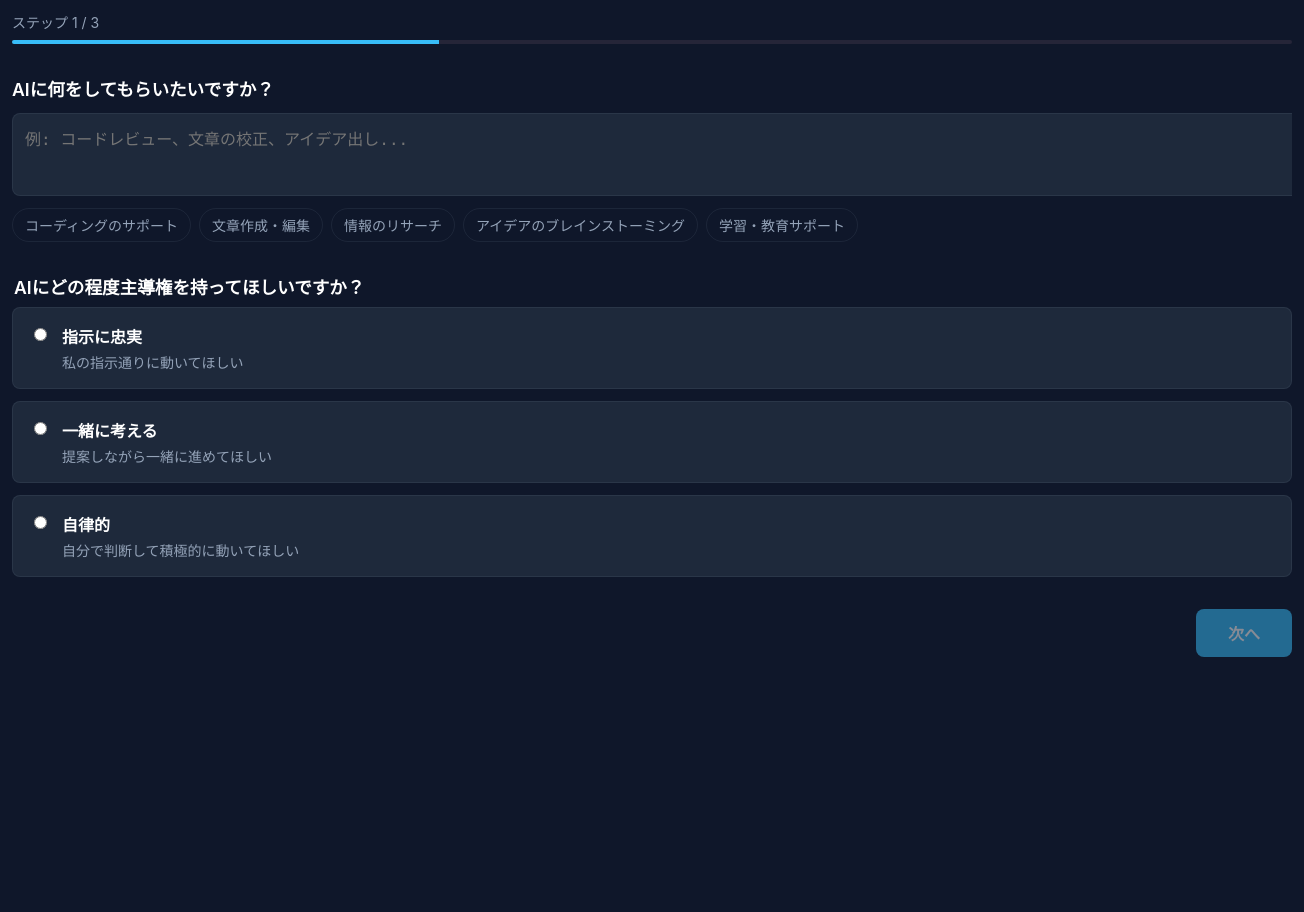
it: DiagnoseFlow › フェーズ遷移 › 初期質問送信後にフォローアップ質問を表示する
In the text box labelled "AIに何をしてもらいたいですか？": (652, 154) [12,113,1292,196], type "コードレビュー"
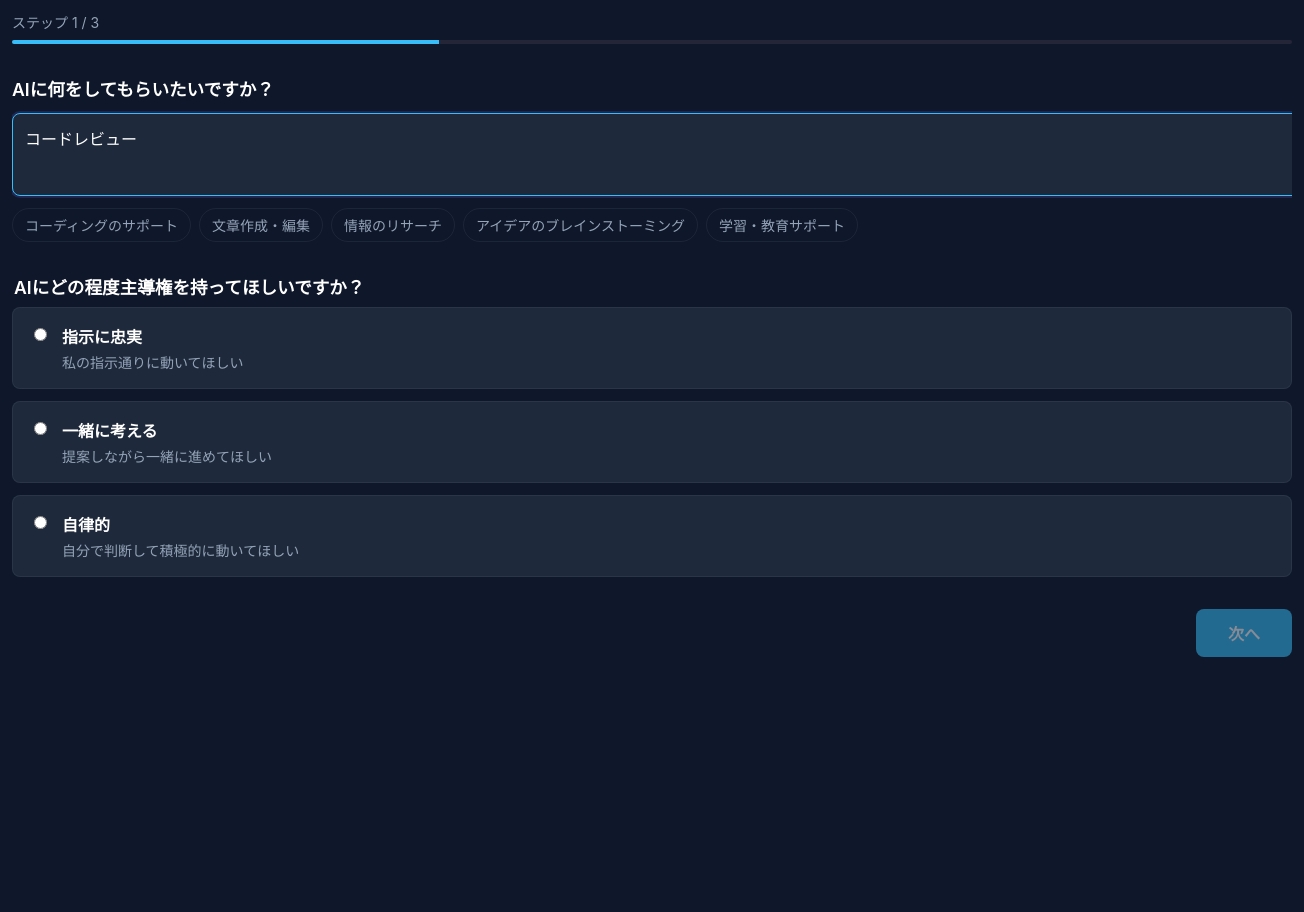
Click the text "一緒に考える": (110, 431) [62,421,158,441]
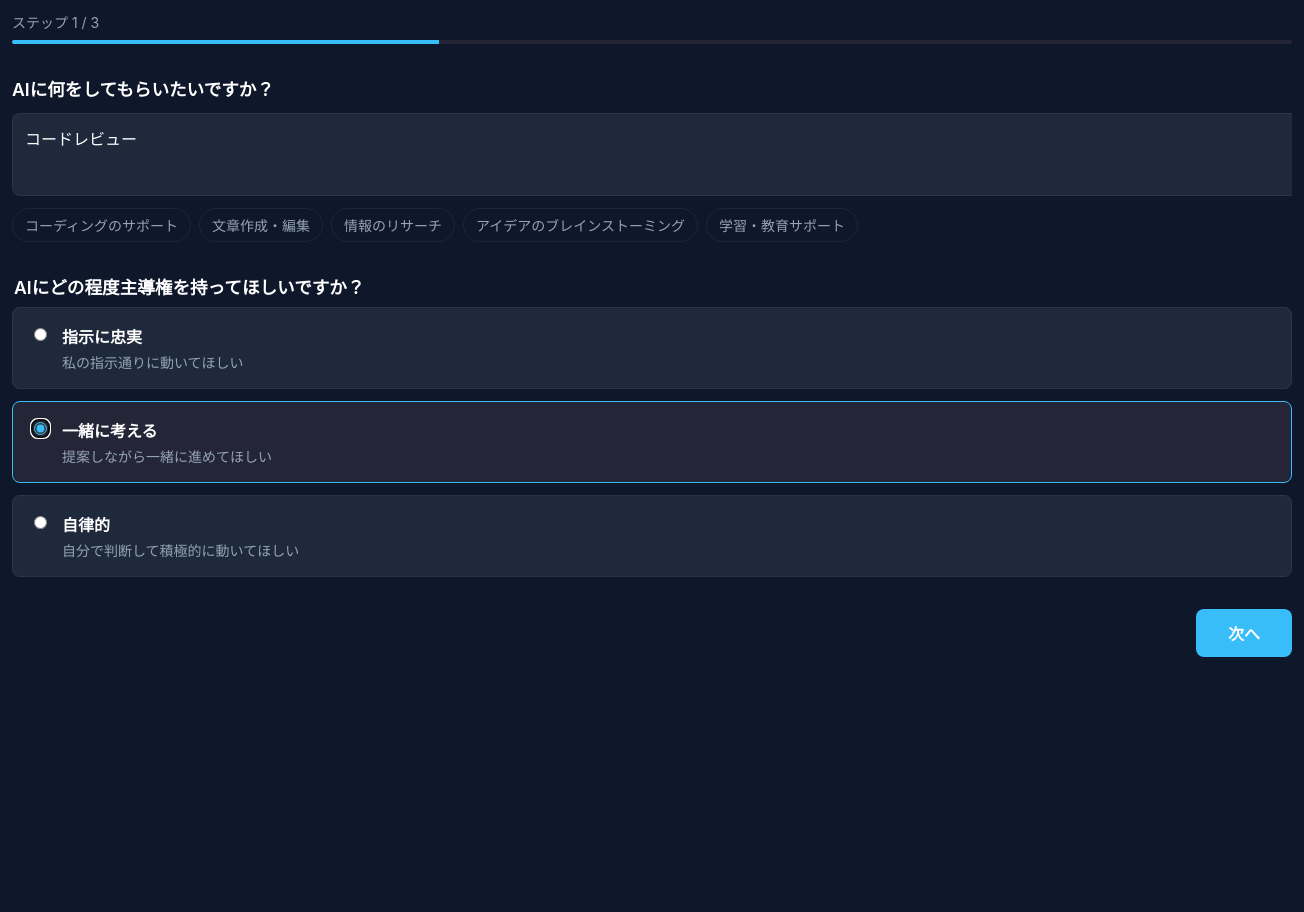
Click the button "次へ": (1244, 633) [1196,609,1292,657]
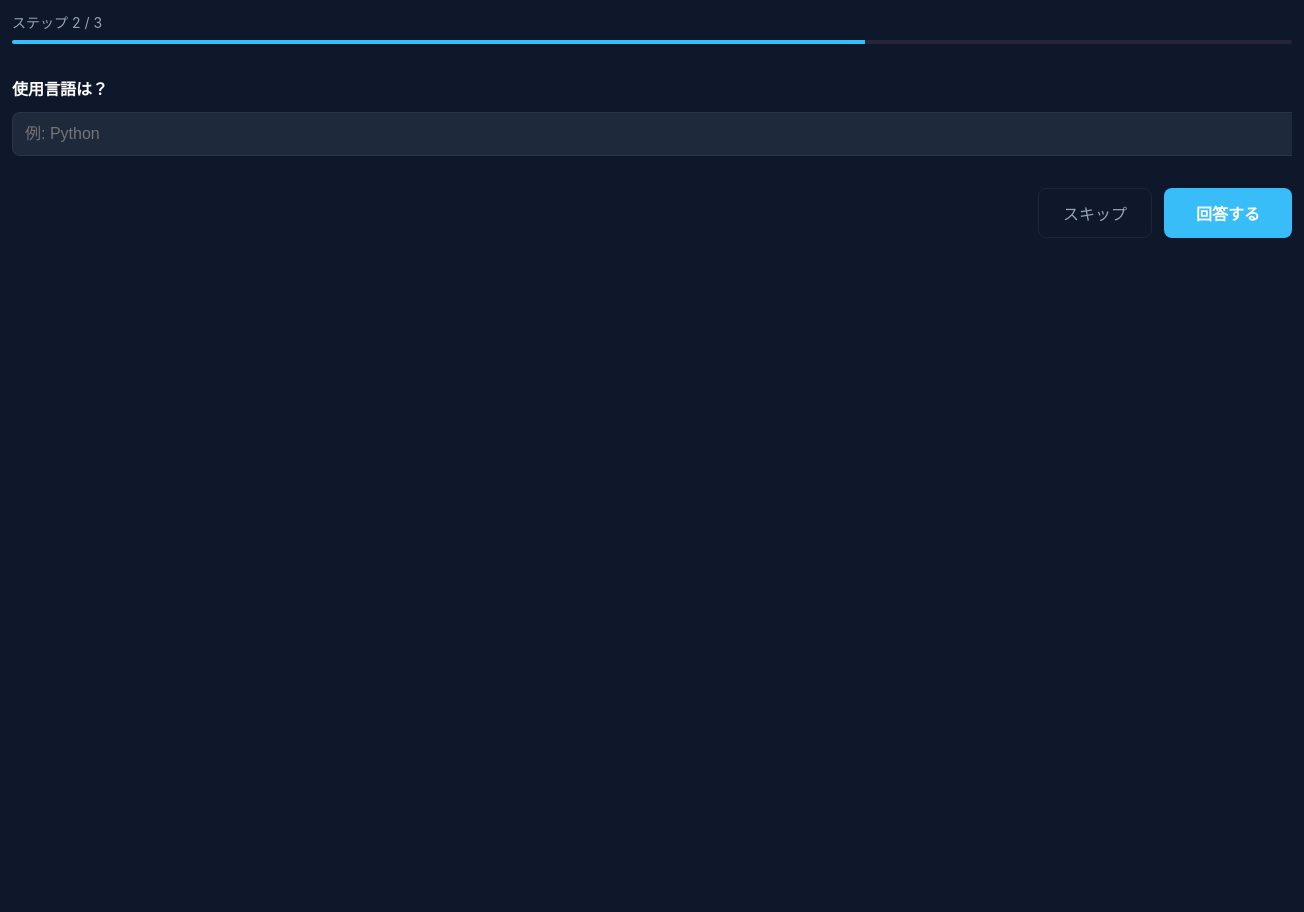
expect the text "使用言語は？" is shown: met, box [12,79,108,99]
